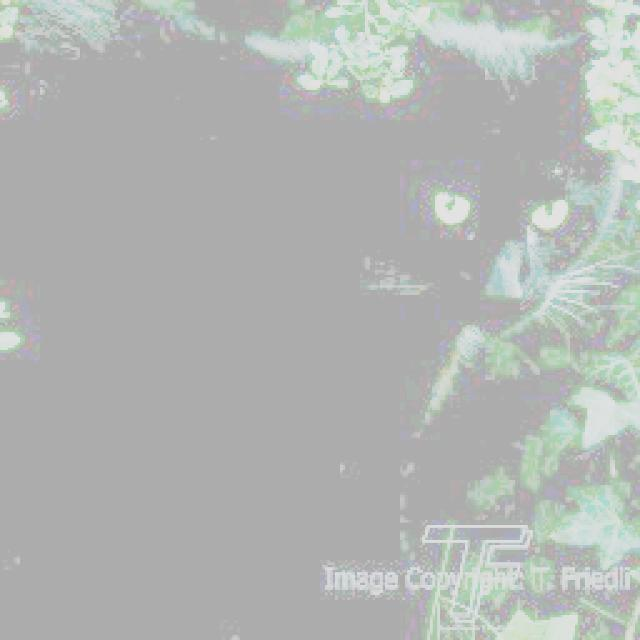cat: (9, 0, 620, 456)
